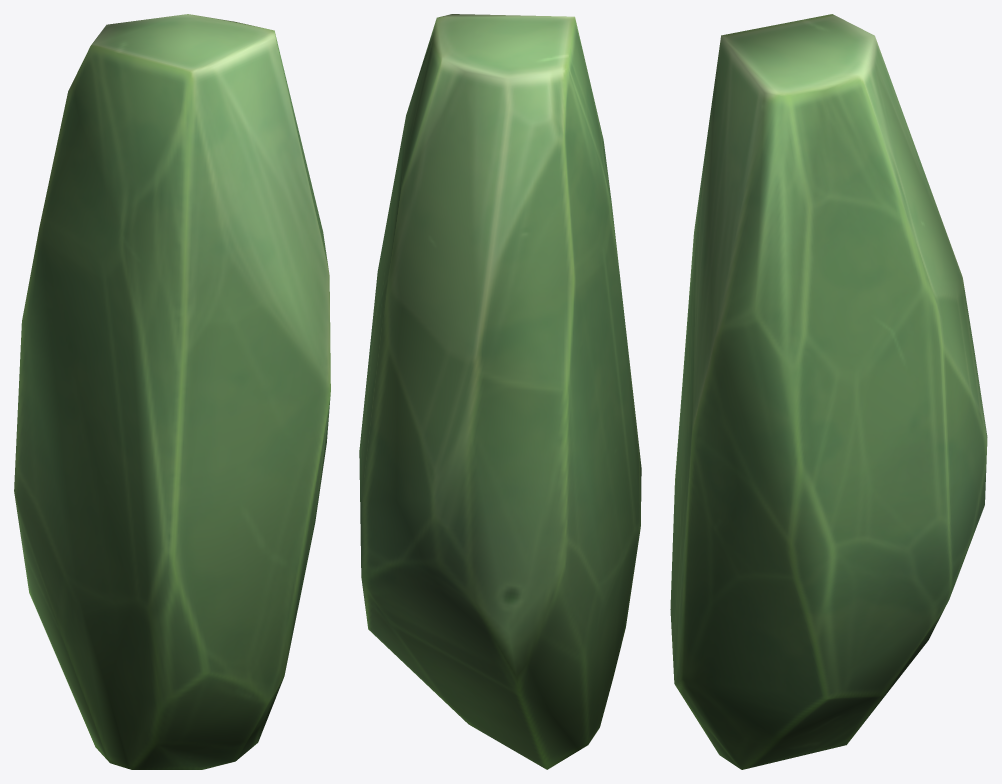
File: SM_Gem_Jade_002.fbx
The picture shows the model from 3 angles, left to right: view 1: azimuth 30°, elevation 25°; view 2: azimuth 150°, elevation 25°; view 3: azimuth 270°, elevation 25°; orthographic projection. The views are drawn at different scales.
Visible parts, largest first — view 1: SM_Gem_Jade_002; view 2: SM_Gem_Jade_002; view 3: SM_Gem_Jade_002.
Part boxes in pixels (box(x1,y1,x2,y2)): SM_Gem_Jade_002: box(14, 14, 330, 769); SM_Gem_Jade_002: box(359, 14, 641, 769); SM_Gem_Jade_002: box(670, 14, 987, 769).
Bounding box in the file's own units: 21.32 × 57.45 × 23.13.
